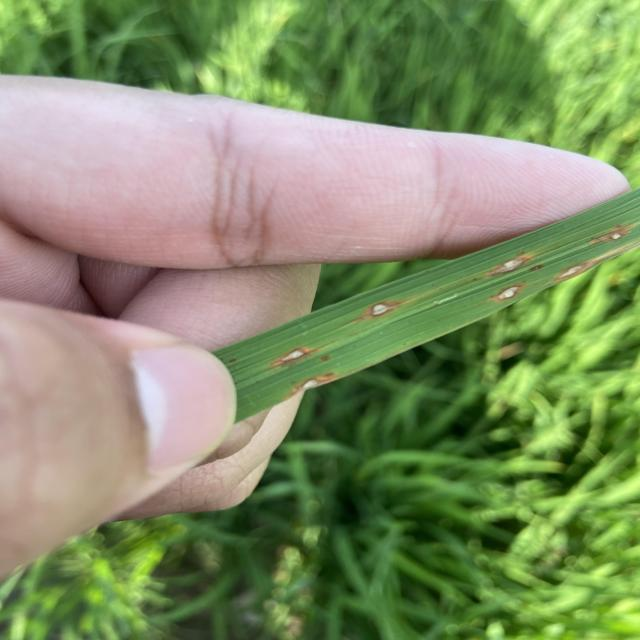Dao on: (293, 373, 336, 393), (488, 255, 530, 275), (556, 260, 596, 281), (589, 225, 631, 244), (491, 285, 522, 301), (284, 349, 304, 361), (371, 303, 390, 315)
